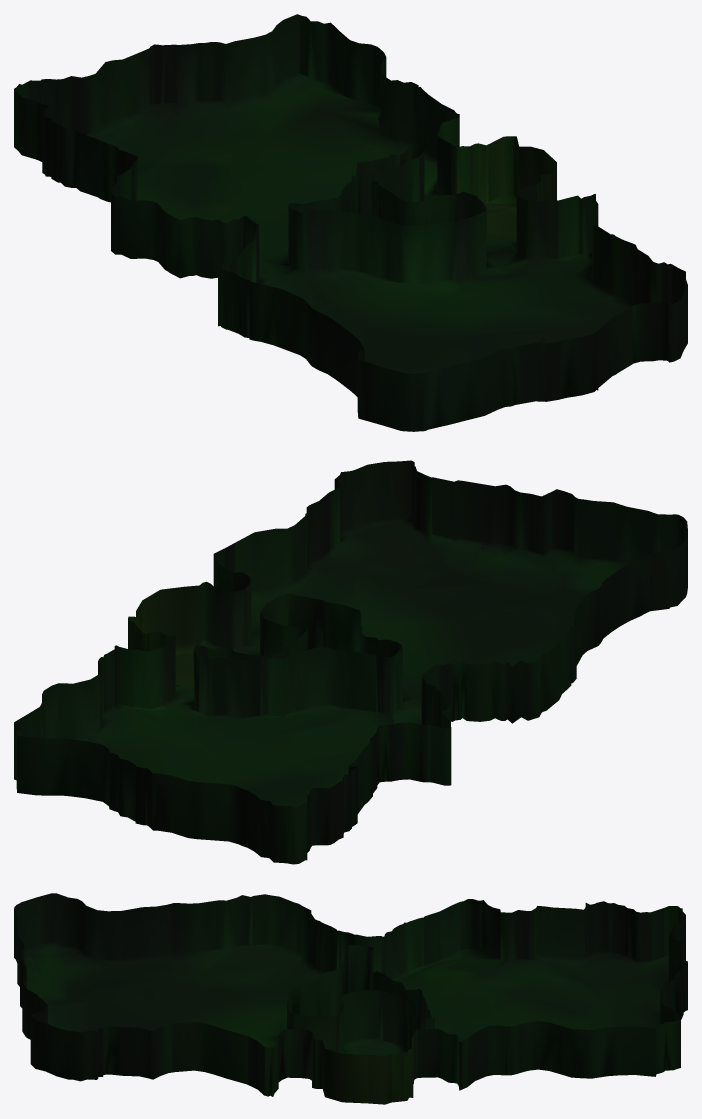
3 renders of one model, top to bottom at view 1: azimuth 30°, elevation 25°; view 2: azimuth 150°, elevation 25°; view 3: azimuth 270°, elevation 25°, orthographic. The views are drawn at different scales.
Visible parts, largest first — view 1: v9_Collision; view 2: v9_Collision; view 3: v9_Collision.
Boxes of the visible parts, x1=… form: v9_Collision: x1=14, y1=14, x2=687, y2=431; v9_Collision: x1=14, y1=460, x2=687, y2=864; v9_Collision: x1=14, y1=893, x2=687, y2=1104.
Size of the model in its own units: 10061 by 2068 by 18832.
